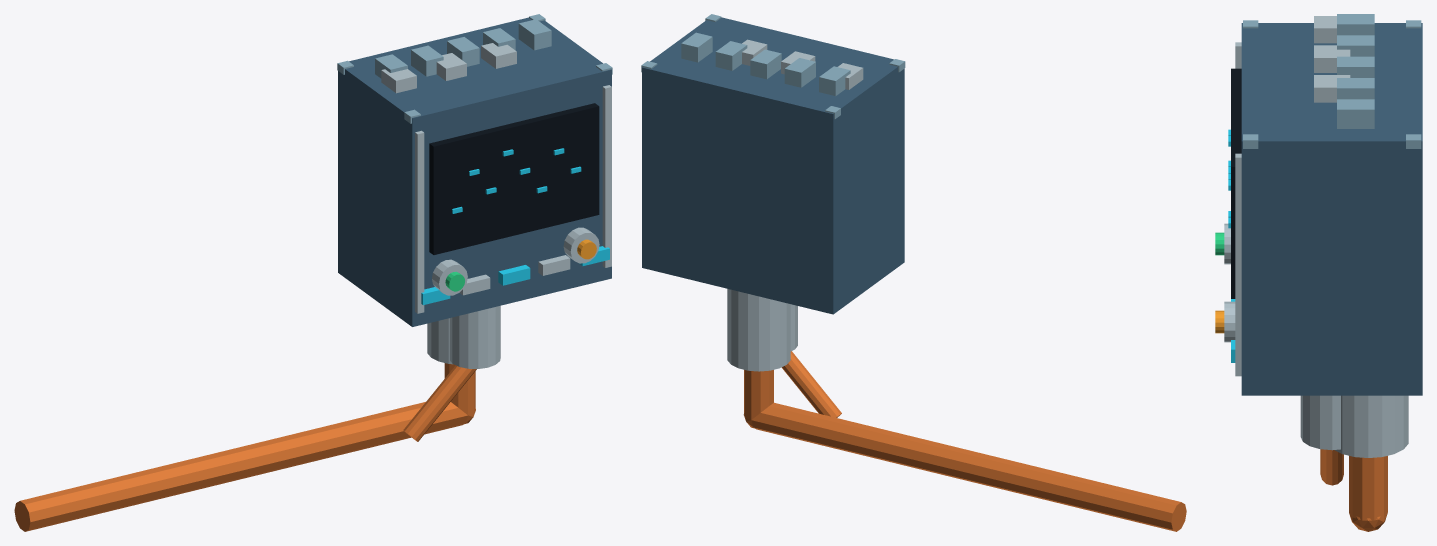
The model's file is 30_L72_CapacitancePressureManometer.fbx.
3 renders of one model, left to right at view 1: azimuth 30°, elevation 25°; view 2: azimuth 150°, elevation 25°; view 3: azimuth 270°, elevation 25°, orthographic. The views are drawn at different scales.
Visible parts, largest first — view 1: CapacitancePressureManometer; view 2: CapacitancePressureManometer; view 3: CapacitancePressureManometer.
Boxes of the visible parts, x1,y1,x2,y2 form: CapacitancePressureManometer: (14,14,612,531); CapacitancePressureManometer: (641,14,1186,531); CapacitancePressureManometer: (1215,14,1422,531).
Size of the model in its own units: 167 by 114 by 45.85.
